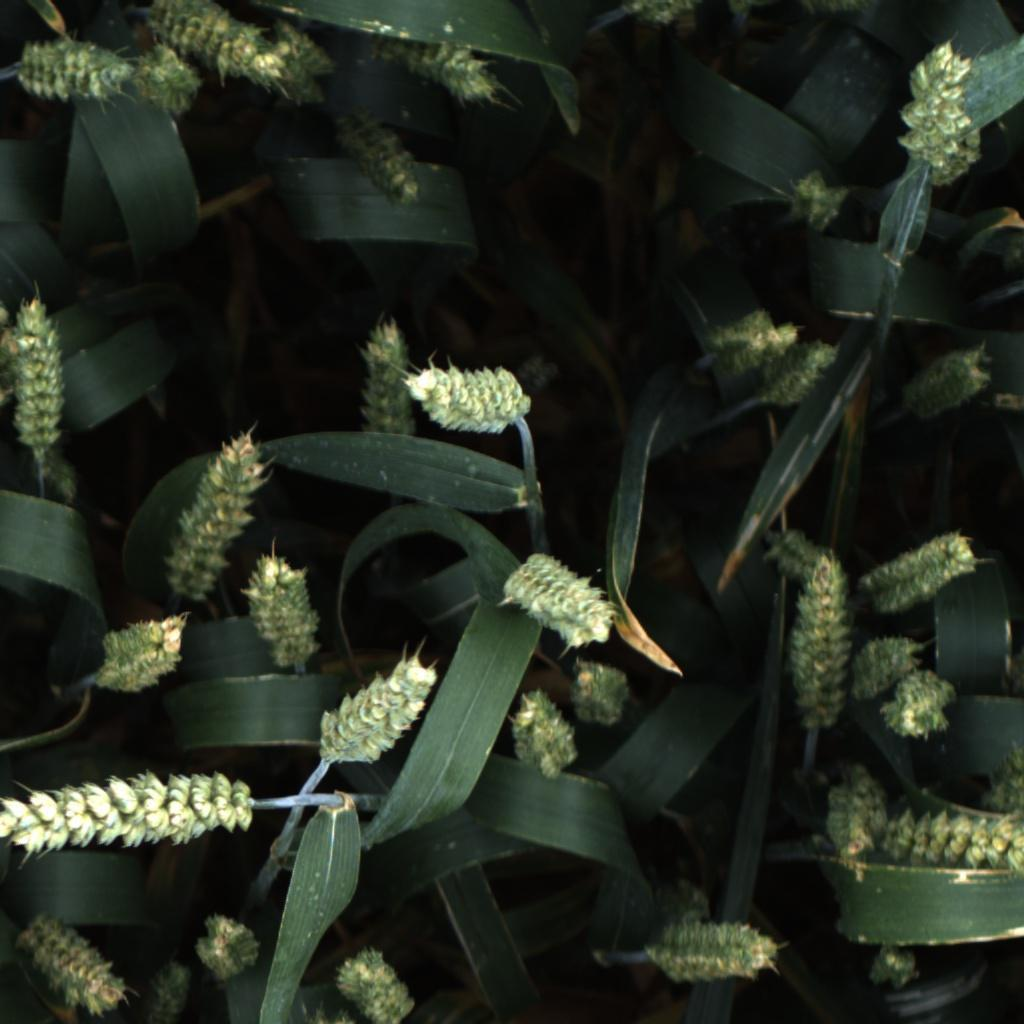0-0: (0, 766, 256, 858), (158, 419, 266, 606), (315, 655, 440, 769), (897, 34, 988, 185), (142, 0, 286, 92), (500, 544, 619, 652), (784, 547, 854, 727), (11, 913, 128, 1017), (882, 802, 1024, 882), (404, 351, 537, 435), (855, 528, 976, 618), (368, 36, 508, 106), (339, 103, 429, 209), (646, 917, 782, 987), (9, 295, 69, 451), (243, 552, 321, 670), (12, 33, 130, 106), (95, 612, 188, 697), (355, 311, 419, 433), (821, 762, 891, 872), (501, 687, 580, 783), (897, 344, 991, 423), (327, 941, 415, 1024), (767, 336, 846, 418), (188, 907, 270, 981), (713, 301, 796, 373), (126, 43, 201, 121), (848, 629, 929, 701), (261, 25, 335, 102), (881, 673, 958, 744), (783, 166, 856, 235), (567, 658, 632, 734), (134, 960, 201, 1024), (974, 734, 1024, 811), (762, 528, 831, 583), (863, 939, 926, 996), (654, 878, 713, 930), (33, 446, 80, 504), (617, 2, 700, 26)
